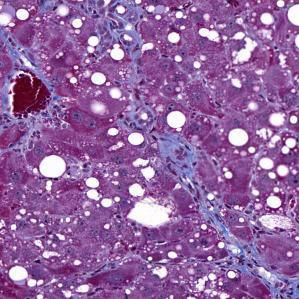fibrosis: (129, 92, 210, 199), (209, 214, 288, 289), (97, 5, 151, 67)
